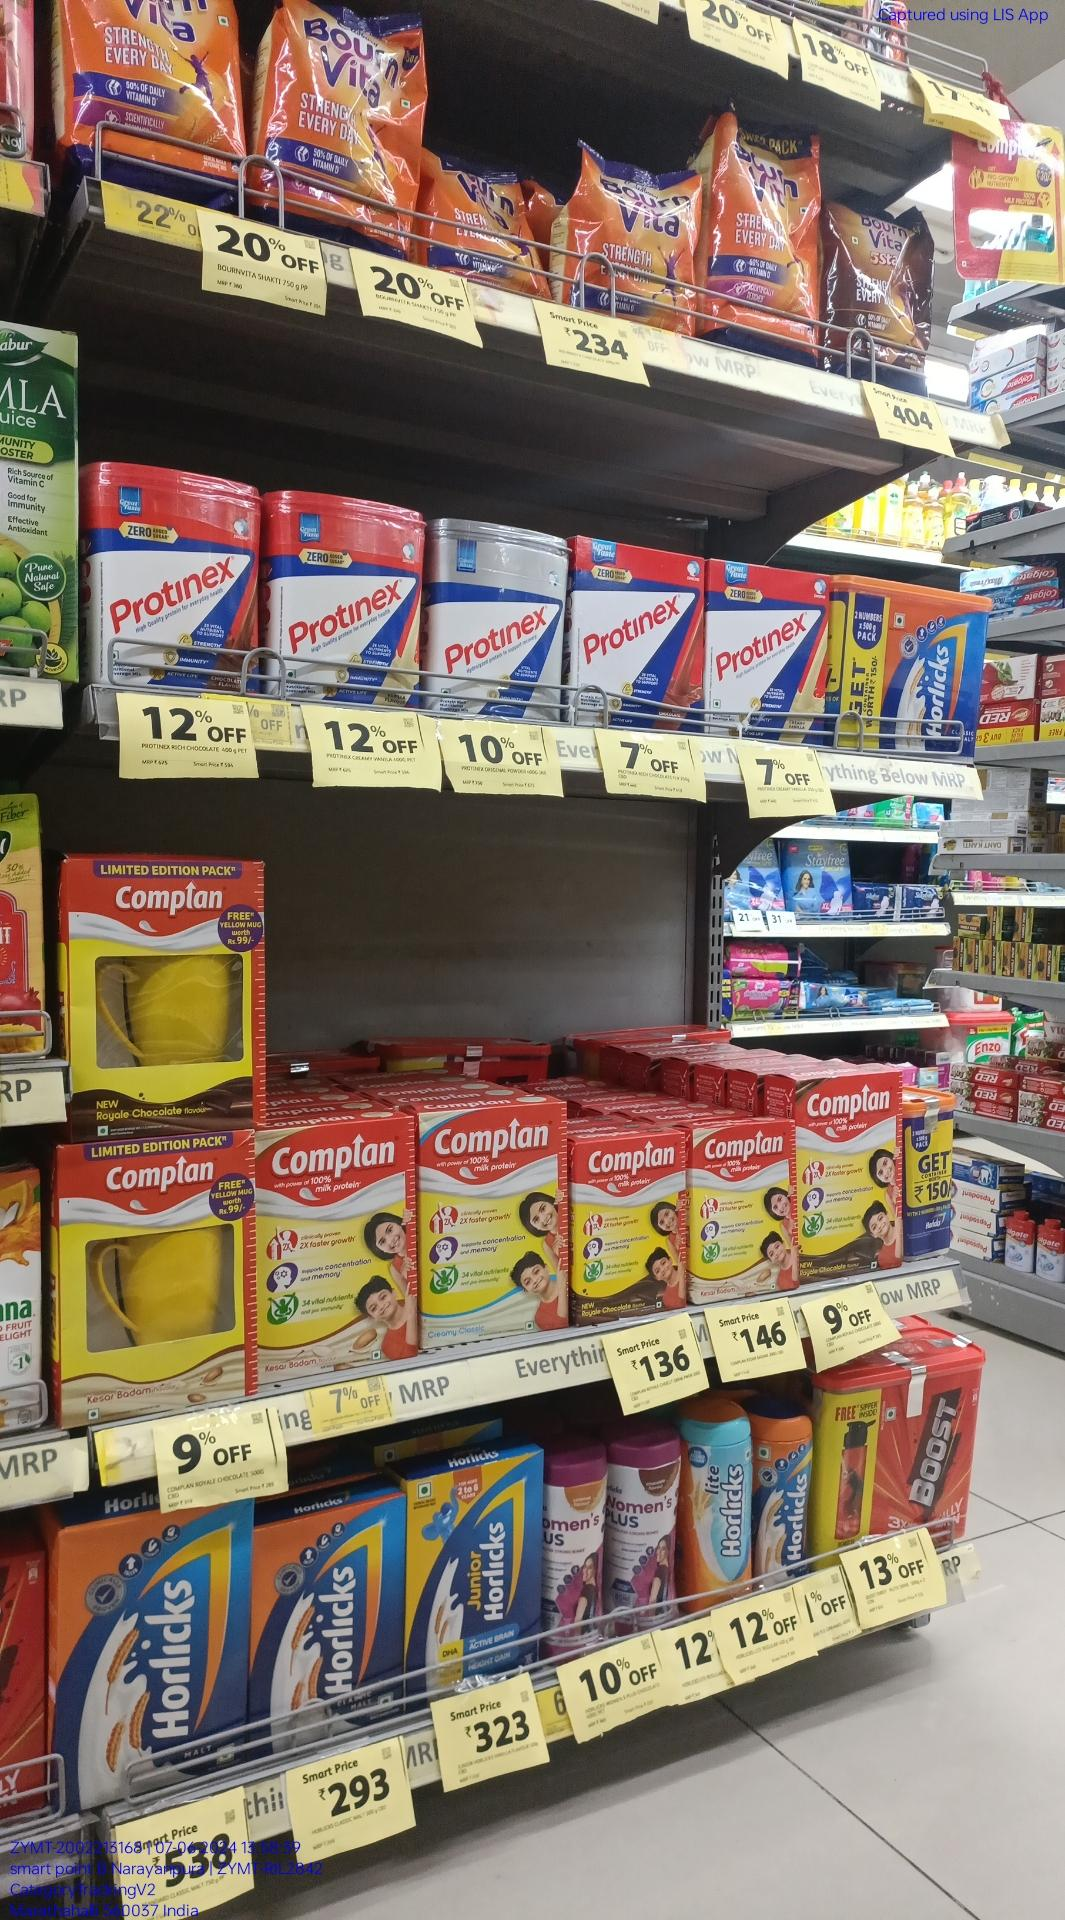HORLICKS_LITE_REGULAR_MALT_500_GM_JAR: (694, 1402, 750, 1608)
HORLICK_CLASSIC_MALT_500_G_JAR: (749, 1411, 808, 1586)
HORLICK_CLASSIC_MALT_500_G_PACK: (253, 1495, 408, 1742)
HORLICK_MALT_1_KG_CONTAINER: (833, 576, 975, 741)
PROTINEX_ORIGINAL_400_G_JAR: (430, 527, 561, 719)
PROTINEX_VANILLA_400_G_JAR: (94, 466, 252, 690), (277, 513, 424, 704), (707, 553, 822, 744)
